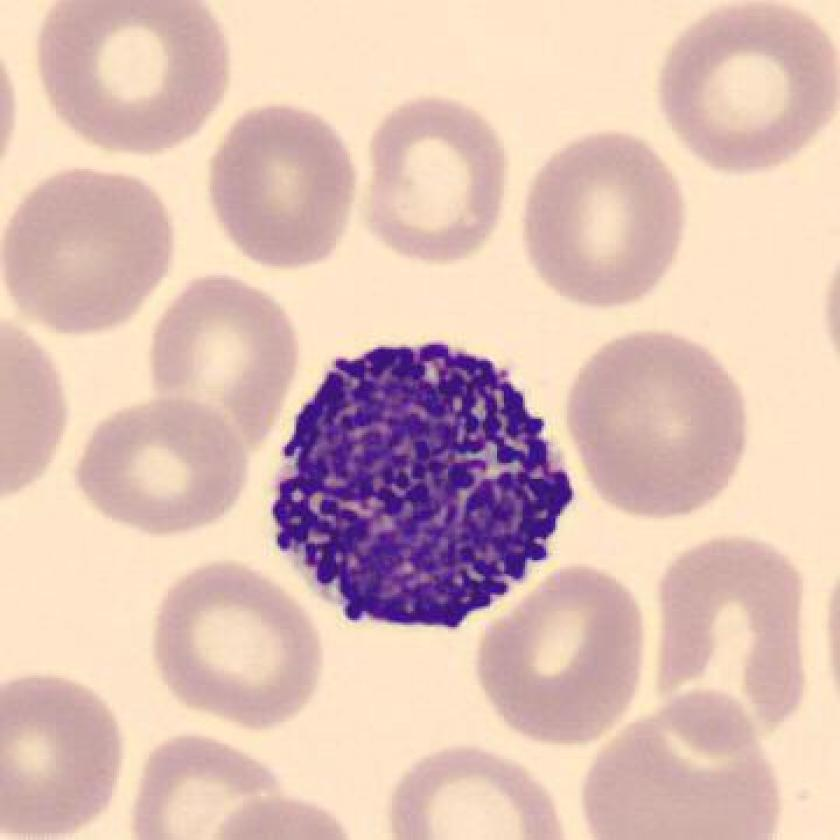basophil: (267, 332, 580, 640)
